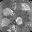people: (2, 7, 14, 16), (1, 18, 13, 27), (15, 16, 23, 26)
